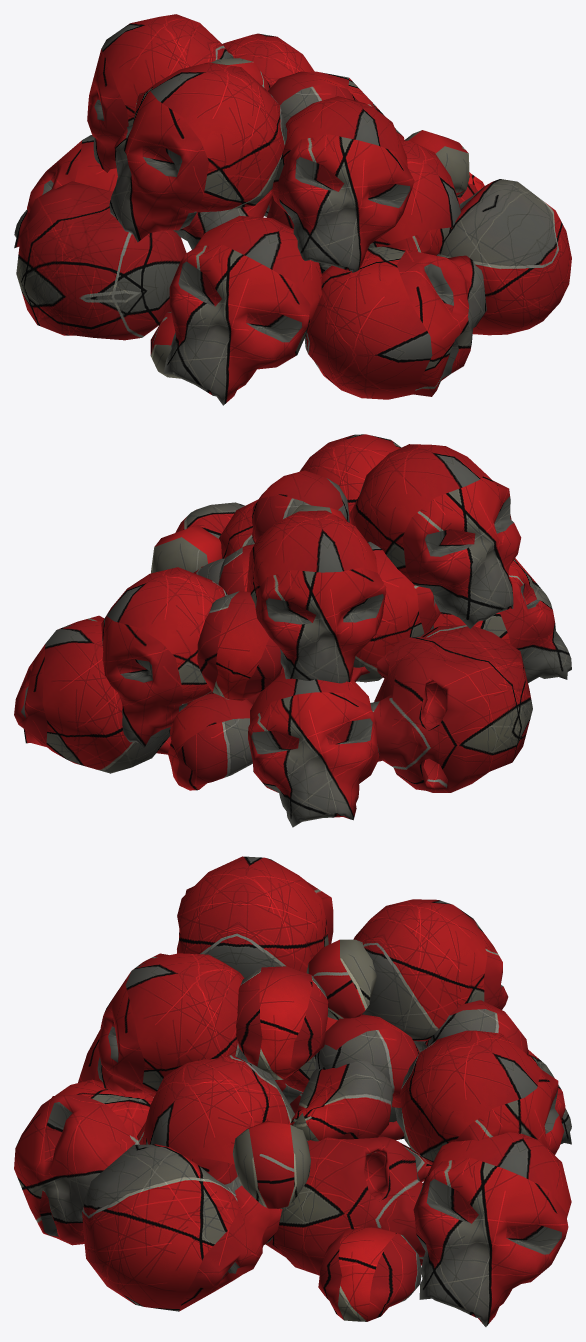
The model's file is SkullPileMesh.fbx.
3 views of the same model, one above another, from view 1: azimuth 30°, elevation 25°; view 2: azimuth 150°, elevation 25°; view 3: azimuth 270°, elevation 25° (orthographic). The views are drawn at different scales.
Parts seen in each view (by area): view 1: polySurface51; view 2: polySurface51; view 3: polySurface51.
Part boxes in pixels (box(x1,y1,x2,y2)): polySurface51: box(14, 14, 571, 405); polySurface51: box(14, 434, 571, 827); polySurface51: box(14, 856, 571, 1326).
Size of the model in its own units: 1.6 by 0.953 by 1.53.
